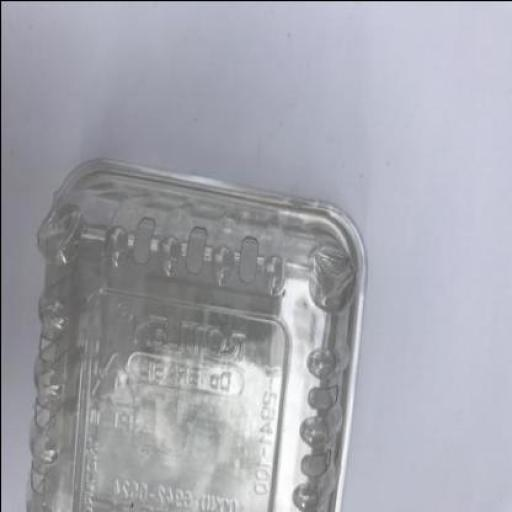plastic: (24, 156, 366, 511)
